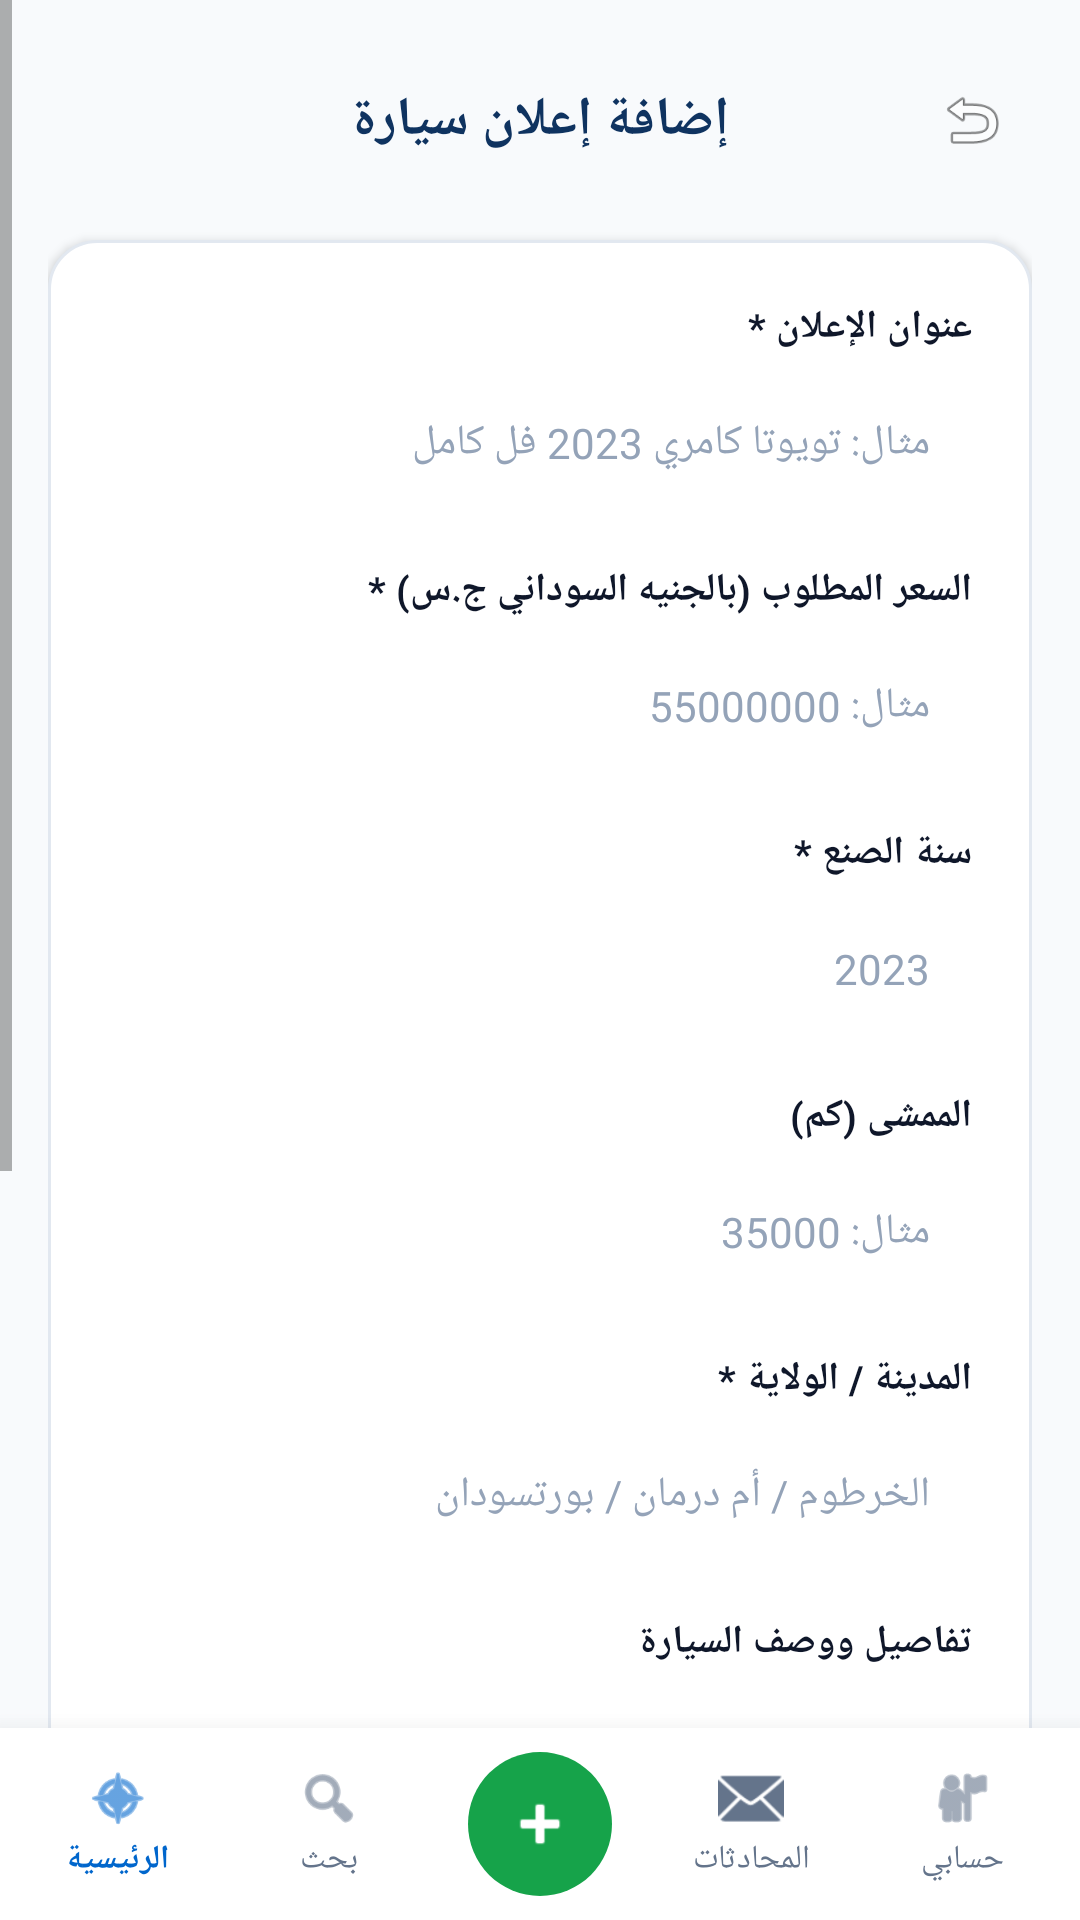

Locate icon controls on the screen. Image size 1080w x 1920h, boxes as (x1, y1, x2, y2).
compass: (92, 1772, 144, 1824)
email: (718, 1775, 784, 1822)
إضافة إعلان: (468, 1752, 612, 1896)
رجوع: (947, 97, 999, 144)
